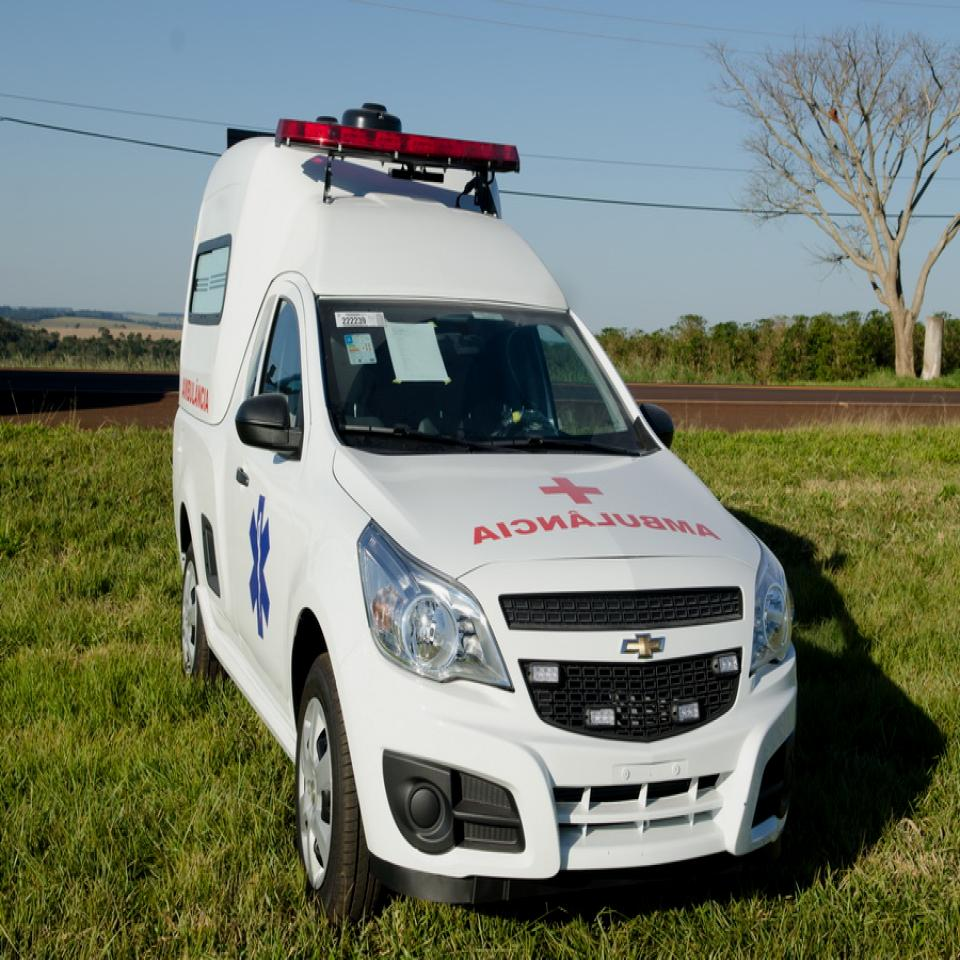ambulancia: (172, 100, 796, 924)
